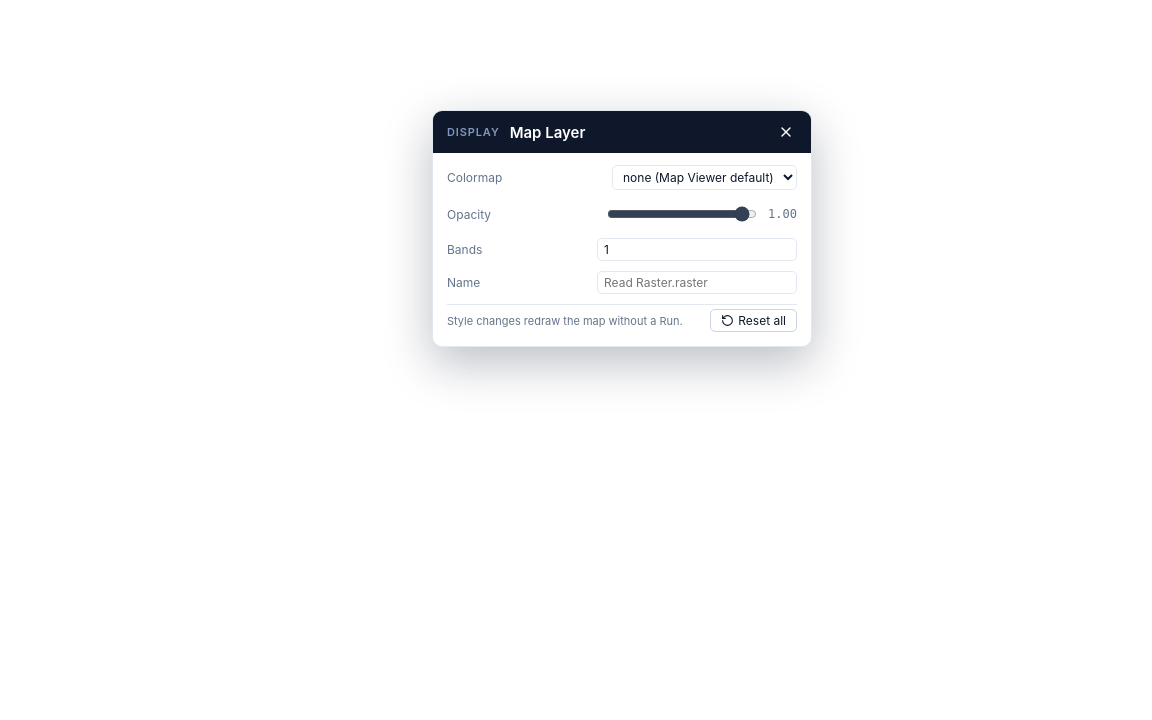
Map Layer window › a refused value goes back to the saved one
Step 1. Replace the text in the field with test id "layer-bands" with "nine" → (697, 250), box [597,238,797,261]
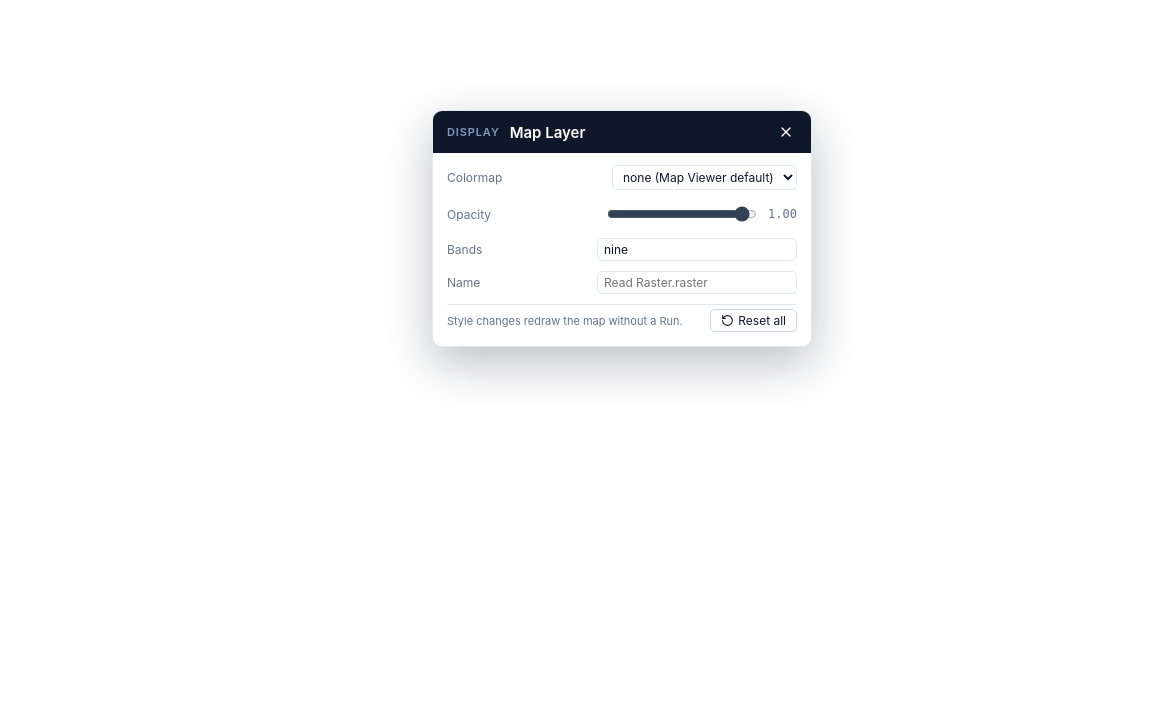
Step 2. Press Enter in the field with test id "layer-bands", box [597,238,797,261]
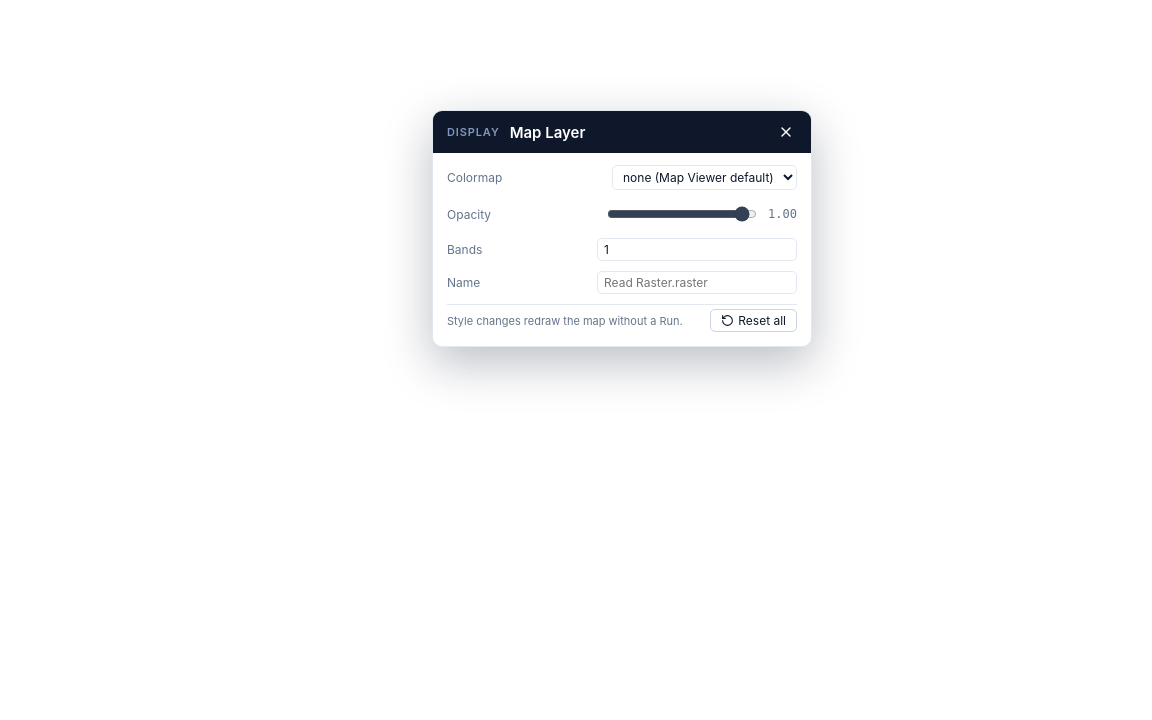
expect the field with test id "layer-bands" holds "1": met, box [597,238,797,261]
